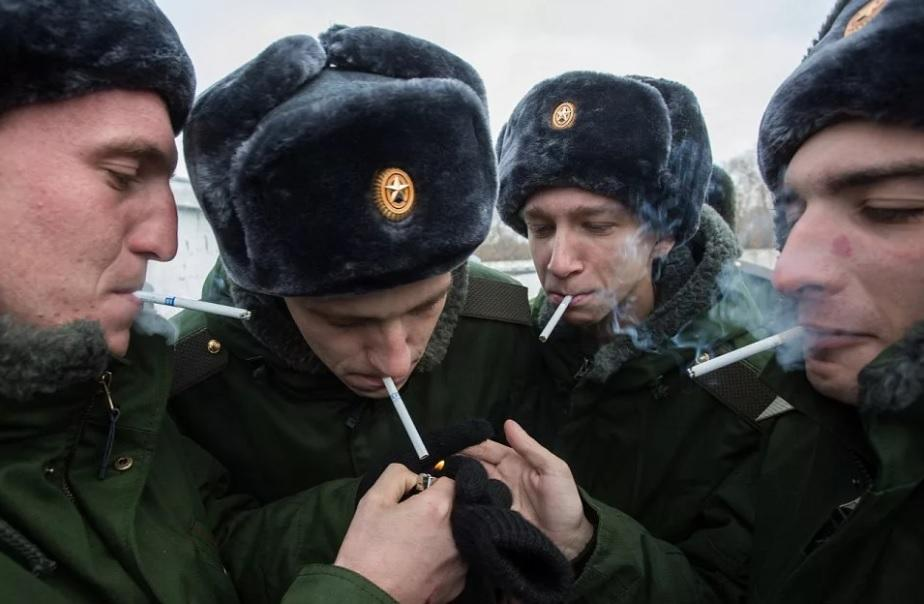cigarette: (686, 326, 810, 378), (380, 376, 429, 461), (131, 290, 251, 320), (539, 295, 575, 344)
